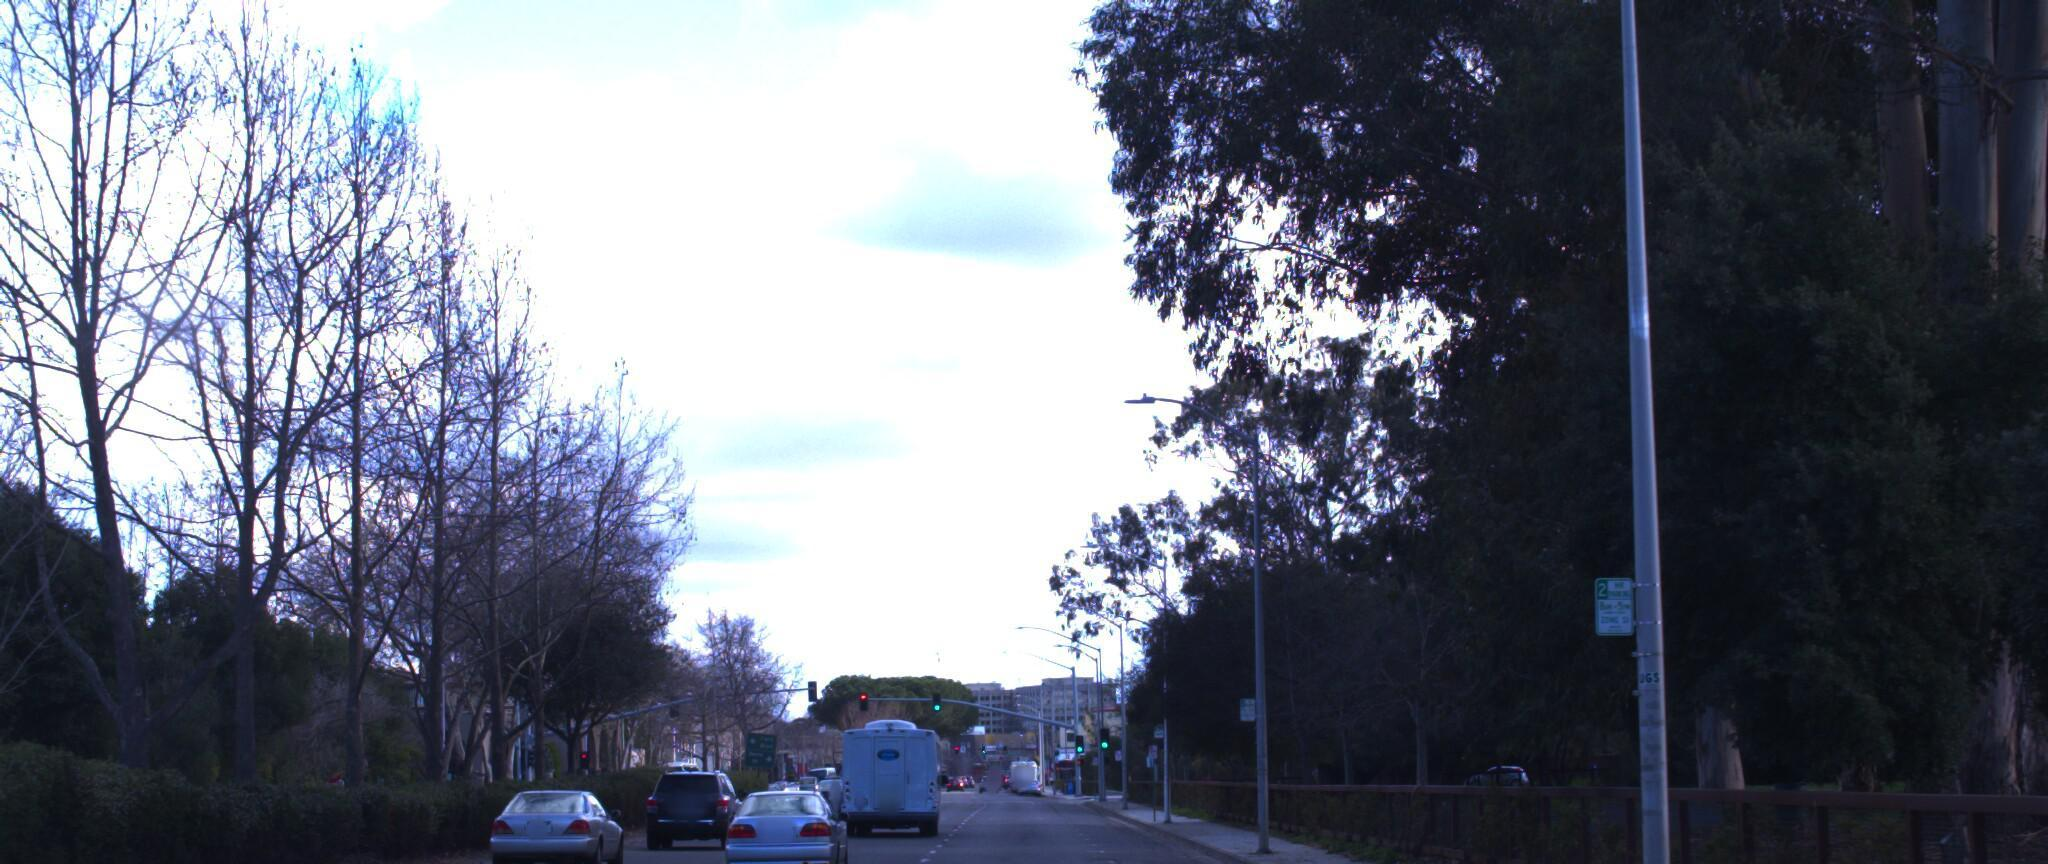bus: (835, 690, 964, 813)
car: (716, 764, 856, 864), (481, 758, 624, 854), (647, 743, 759, 826)
